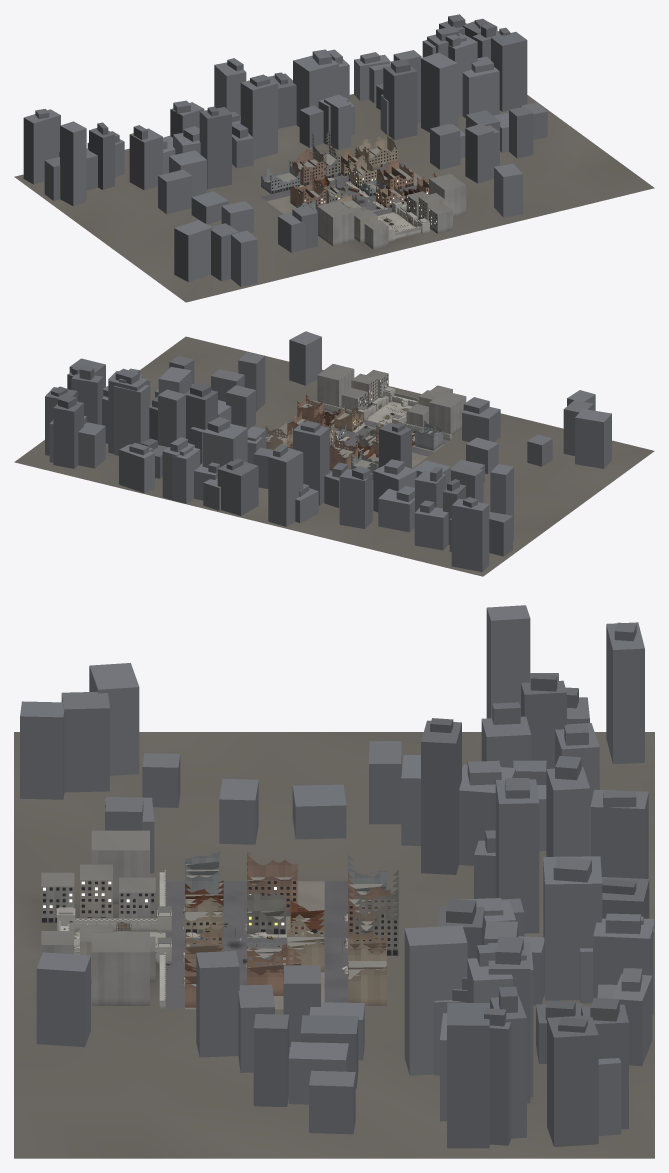
Rendered from city_siege.glb.
The picture shows the model from 3 angles, top to bottom: view 1: azimuth 30°, elevation 25°; view 2: azimuth 150°, elevation 25°; view 3: azimuth 270°, elevation 25°; orthographic projection. The views are drawn at different scales.
Visible parts, largest first — view 1: Skyline, Ground, InnerCity, Landmark, BlockR2, BlockL2, Fortress, BlockR1; view 2: Skyline, Ground, InnerCity, Landmark, Fortress, BlockR1, BlockL1, BlockR2, BlockL2; view 3: Skyline, Ground, InnerCity, Landmark, BlockL2, BlockR2, BlockL1, Fortress, BlockR1.
Part boxes in pixels (x1=…): Skyline: x1=23, y1=14, x2=547, y2=286; Ground: x1=14, y1=94, x2=654, y2=302; InnerCity: x1=317, y1=173, x2=466, y2=249; Landmark: x1=261, y1=131, x2=397, y2=194; BlockR2: x1=348, y1=157, x2=413, y2=196; BlockL2: x1=290, y1=172, x2=346, y2=207; Fortress: x1=360, y1=198, x2=429, y2=241; BlockR1: x1=376, y1=172, x2=436, y2=208; Skyline: x1=45, y1=331, x2=611, y2=571; Ground: x1=14, y1=336, x2=654, y2=576; InnerCity: x1=317, y1=364, x2=466, y2=435; Landmark: x1=258, y1=426, x2=378, y2=479; Fortress: x1=309, y1=387, x2=451, y2=440; BlockR1: x1=297, y1=394, x2=362, y2=431; BlockL1: x1=376, y1=420, x2=443, y2=450; BlockR2: x1=287, y1=411, x2=346, y2=445; BlockL2: x1=348, y1=429, x2=378, y2=458; Skyline: x1=20, y1=605, x2=653, y2=1148; Ground: x1=14, y1=732, x2=654, y2=1158; InnerCity: x1=41, y1=830, x2=155, y2=1005; Landmark: x1=348, y1=855, x2=398, y2=1005; BlockL2: x1=247, y1=852, x2=324, y2=934; BlockR2: x1=247, y1=912, x2=324, y2=995; BlockL1: x1=185, y1=851, x2=223, y2=934; Fortress: x1=56, y1=870, x2=171, y2=1009; BlockR1: x1=185, y1=922, x2=223, y2=1007.
Size of what is drawn, in the model's own units: 520 by 83.23 by 330.
